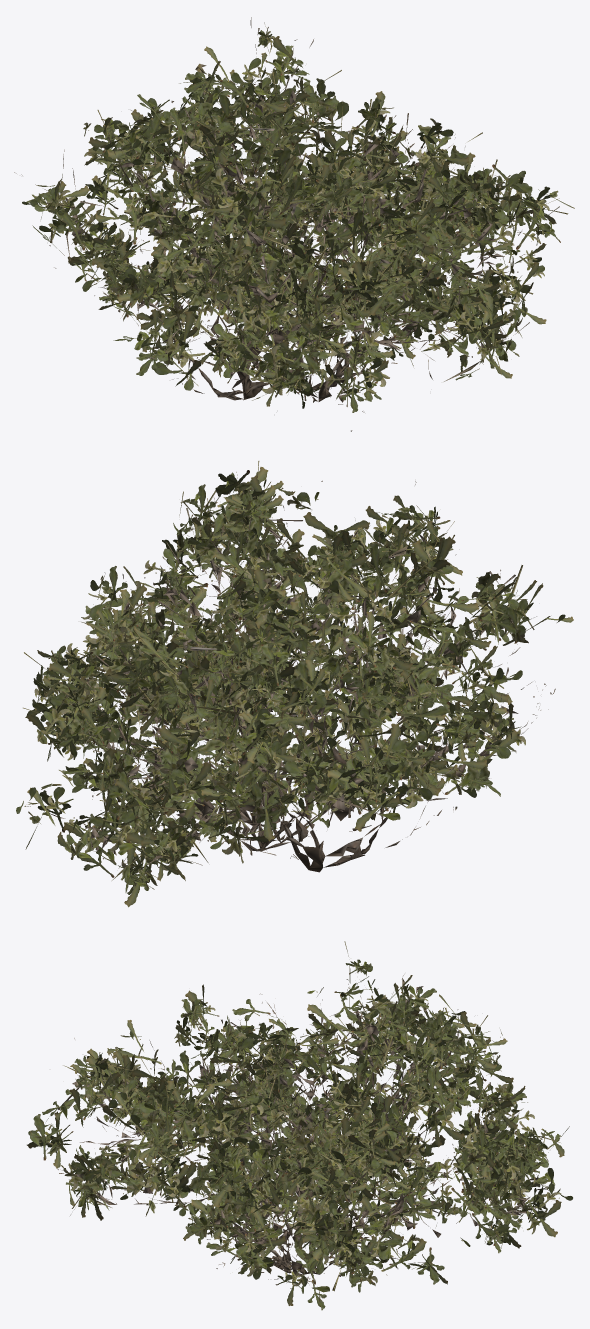
The model's file is searsia-burchellii.glb.
The picture shows the model from 3 angles, top to bottom: view 1: azimuth 30°, elevation 25°; view 2: azimuth 150°, elevation 25°; view 3: azimuth 270°, elevation 25°; orthographic projection. The views are drawn at different scales.
Visible parts, largest first — view 1: searsia_burchellii_large_LOD0, searsia_burchellii_medium_LOD0, searsia_burchellii_small_LOD0; view 2: searsia_burchellii_large_LOD0, searsia_burchellii_medium_LOD0, searsia_burchellii_small_LOD0; view 3: searsia_burchellii_large_LOD0, searsia_burchellii_medium_LOD0, searsia_burchellii_small_LOD0.
Part boxes in pixels (<box>): searsia_burchellii_large_LOD0: <box>14,17,574,400</box>; searsia_burchellii_medium_LOD0: <box>123,74,516,392</box>; searsia_burchellii_small_LOD0: <box>206,174,389,431</box>; searsia_burchellii_large_LOD0: <box>16,461,573,907</box>; searsia_burchellii_medium_LOD0: <box>75,535,501,855</box>; searsia_burchellii_small_LOD0: <box>156,613,419,863</box>; searsia_burchellii_large_LOD0: <box>27,941,572,1285</box>; searsia_burchellii_medium_LOD0: <box>179,997,445,1310</box>; searsia_burchellii_small_LOD0: <box>173,1096,393,1273</box>.
Bounding box in the file's own units: 4.12 × 3.34 × 5.22.
Materials: 9 (9 with a texture image).
